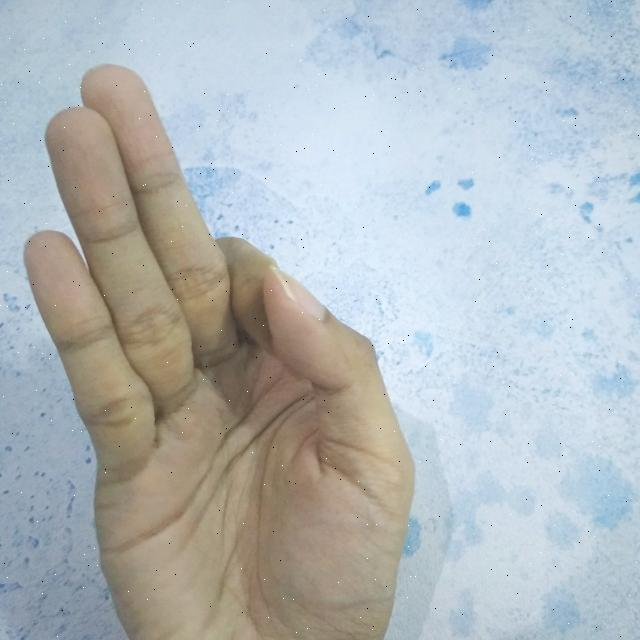F: (22, 63, 424, 640)
